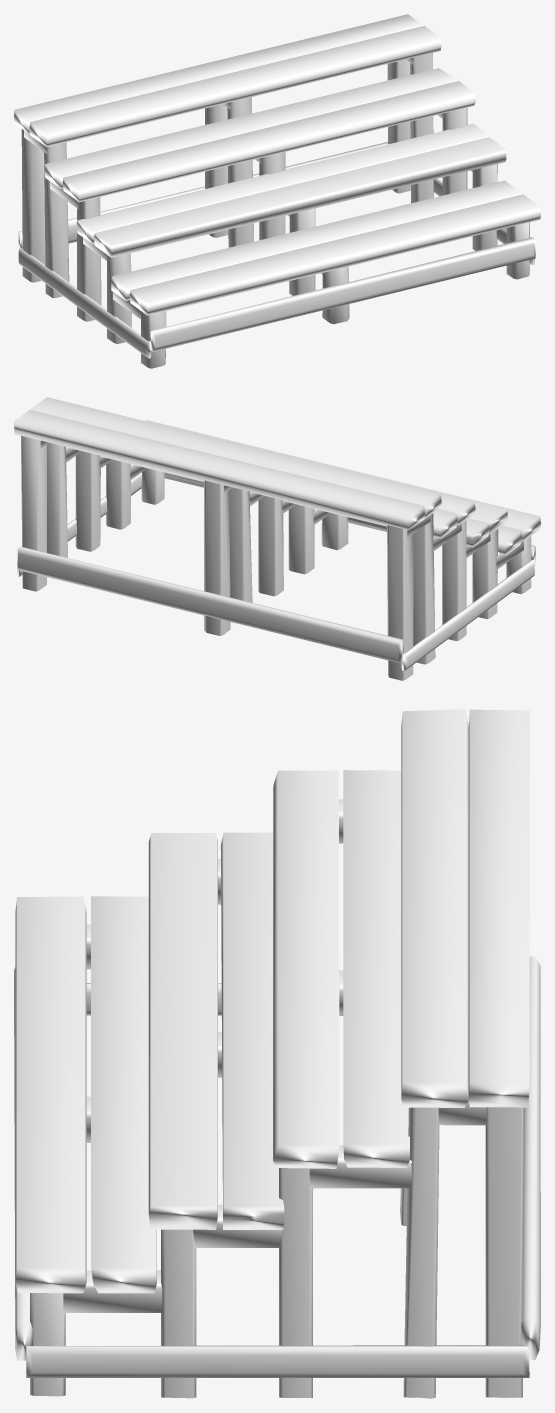
The model's file is Meshy_AI_Wooden_Pallet_Stairs_1016163740_auto-uv.fbx.
3 renders of one model, top to bottom at view 1: azimuth 30°, elevation 25°; view 2: azimuth 150°, elevation 25°; view 3: azimuth 270°, elevation 25°, orthographic. The views are drawn at different scales.
Visible parts, largest first — view 1: Mesh_0; view 2: Mesh_0; view 3: Mesh_0.
Boxes of the visible parts, bbox=[...] form: Mesh_0: bbox=[14, 14, 540, 368]; Mesh_0: bbox=[14, 397, 540, 680]; Mesh_0: bbox=[14, 709, 540, 1398].
Size of the model in its own units: 95.26 by 38.33 by 56.74.
Materials: 1 (1 with a texture image).
